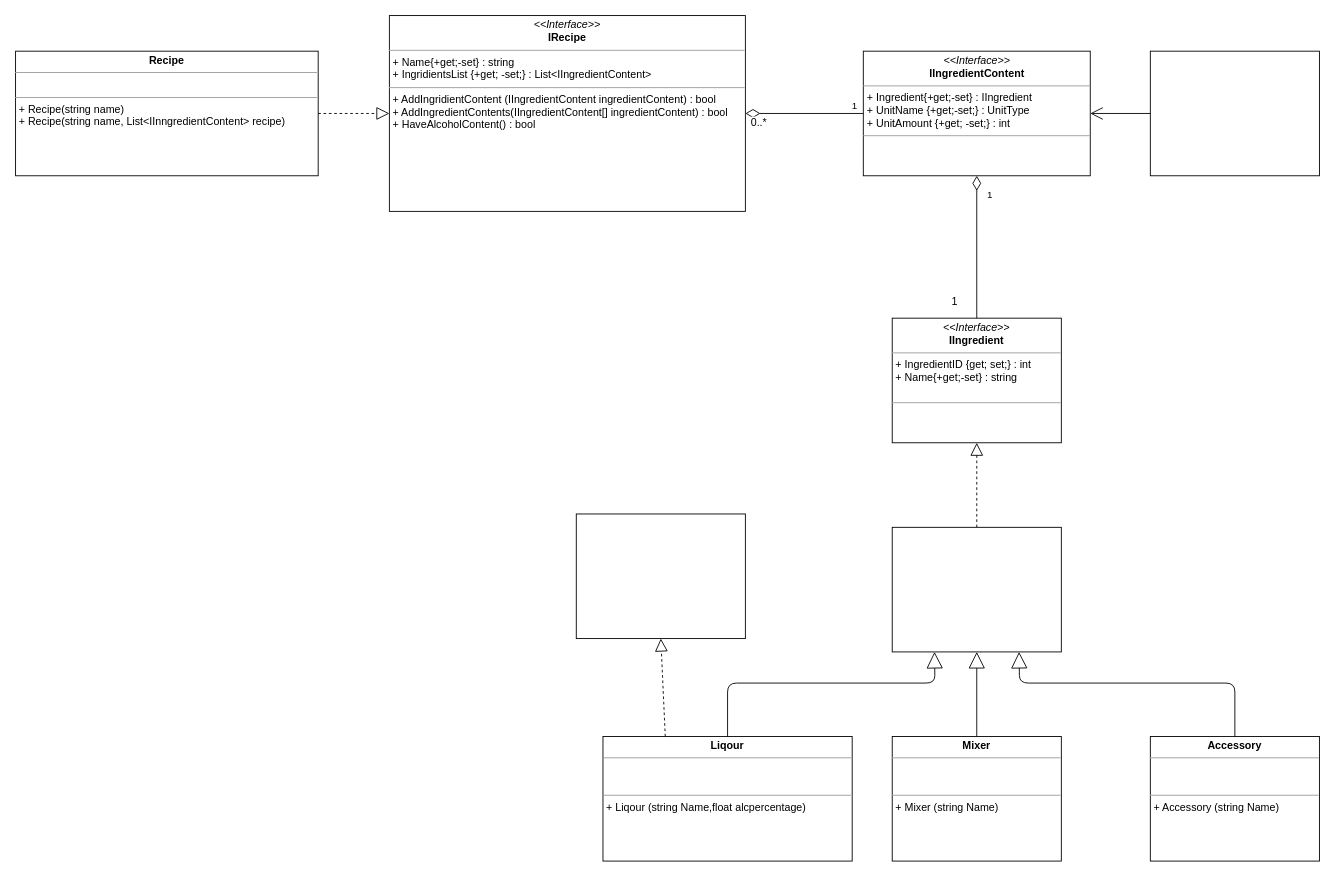
This 1335x877 diagram has some shape labels left out. Here are the shapes that lost their labels. From the top down, the centre of each, then its label:
At (1234,113): "<<Enum>> UnitType".
At (660,576): "<<Interface>> IAlcholic + Percentage {+get; -set;} : float".
At (976,589): "IngredientBase + IngredientBase (string Name)".
